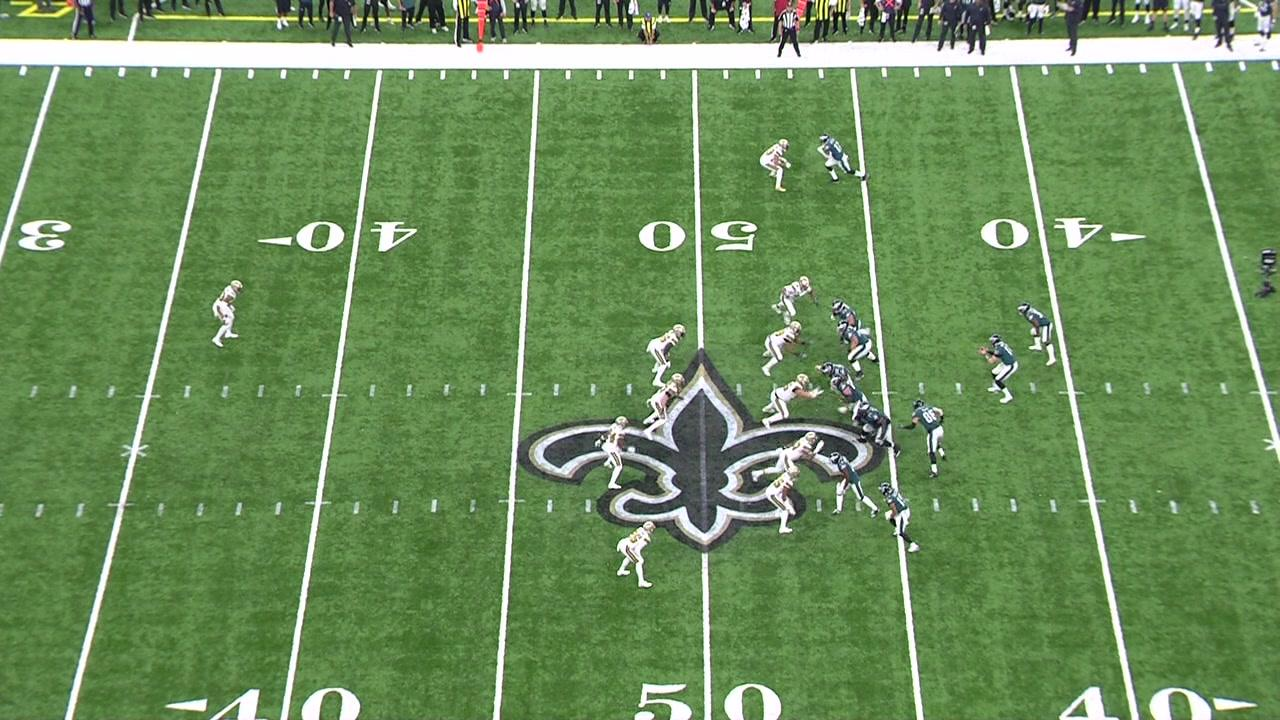player: (898, 397, 952, 479), (749, 432, 826, 489), (759, 373, 825, 432), (828, 449, 881, 521), (877, 480, 925, 559), (642, 372, 695, 442), (615, 518, 661, 592), (812, 131, 871, 188), (594, 414, 637, 492), (759, 319, 814, 378), (977, 333, 1021, 406), (1013, 300, 1058, 368), (645, 321, 689, 389), (855, 403, 907, 460), (769, 272, 821, 328), (764, 463, 803, 537), (836, 322, 883, 382), (210, 278, 246, 350), (758, 137, 796, 193), (830, 375, 869, 428), (816, 362, 858, 394), (829, 296, 863, 335)
ref: (771, 3, 808, 65)
